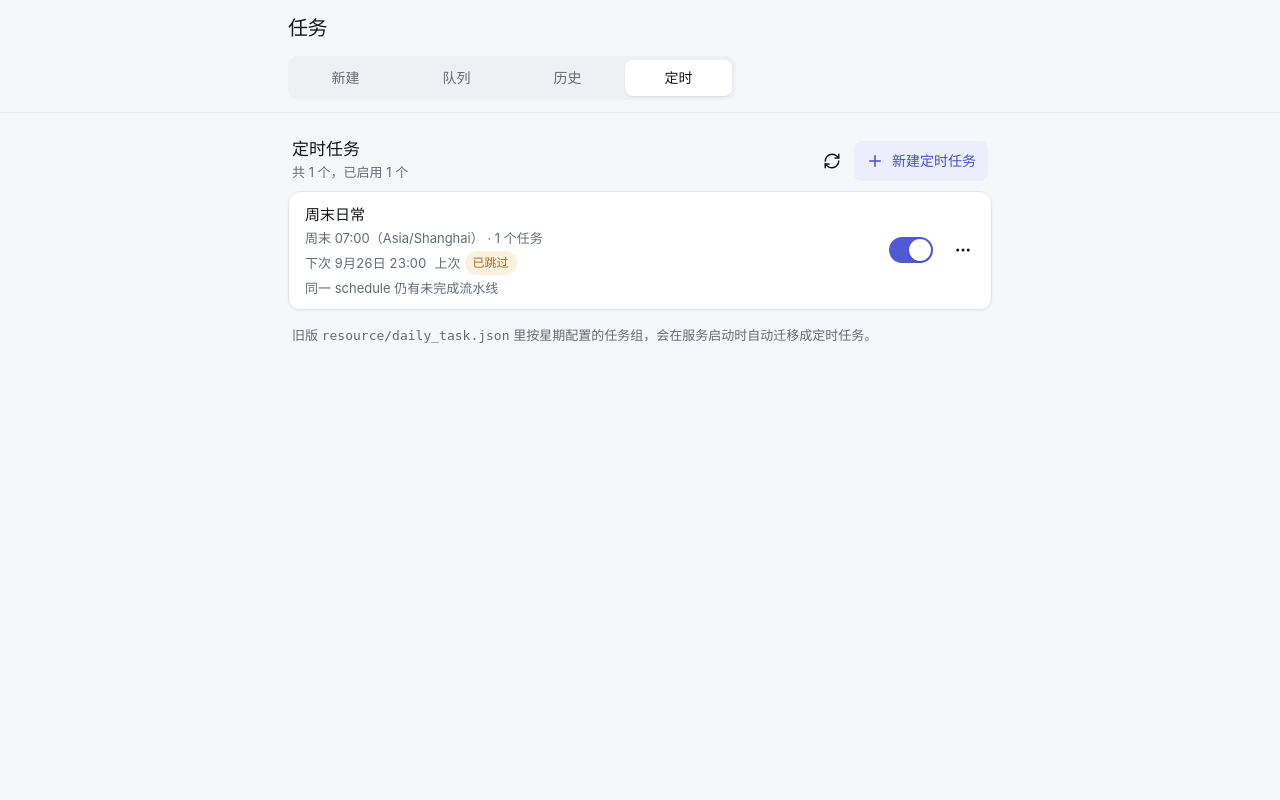
Scenario: schedule list › explains a refused run on its row
The width and height of the screenshot is (1280, 800).
Check: the link "周末日常" is shown, box [305,205,543,296]
What coordinates should you click on to do the following:
click the button named "「周末日常」的更多操作"
I would click on:
 (963, 250)
Its box is [941,228,985,272].
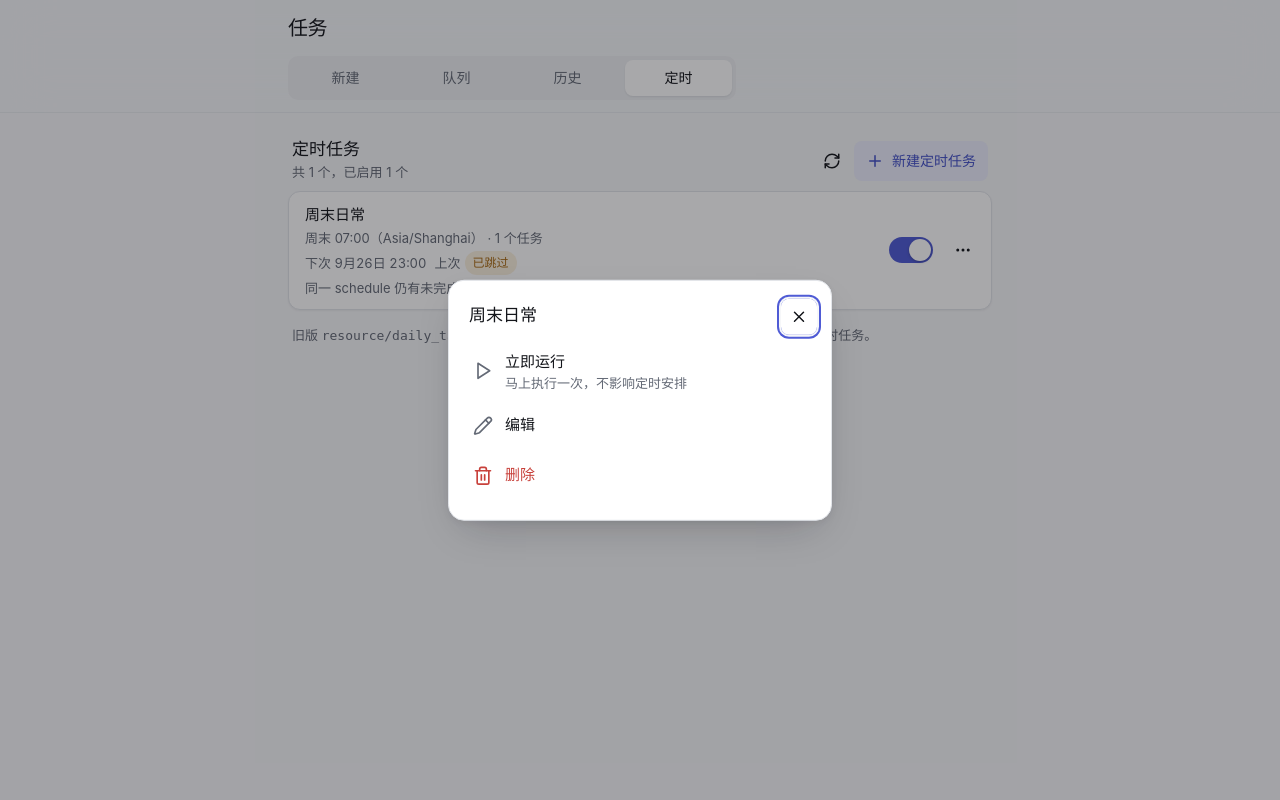
What coordinates should you click on to do the following:
click the button "立即运行 马上执行一次，不影响定时安排"
I would click on:
 (535, 361)
Its box is [461,343,819,399].
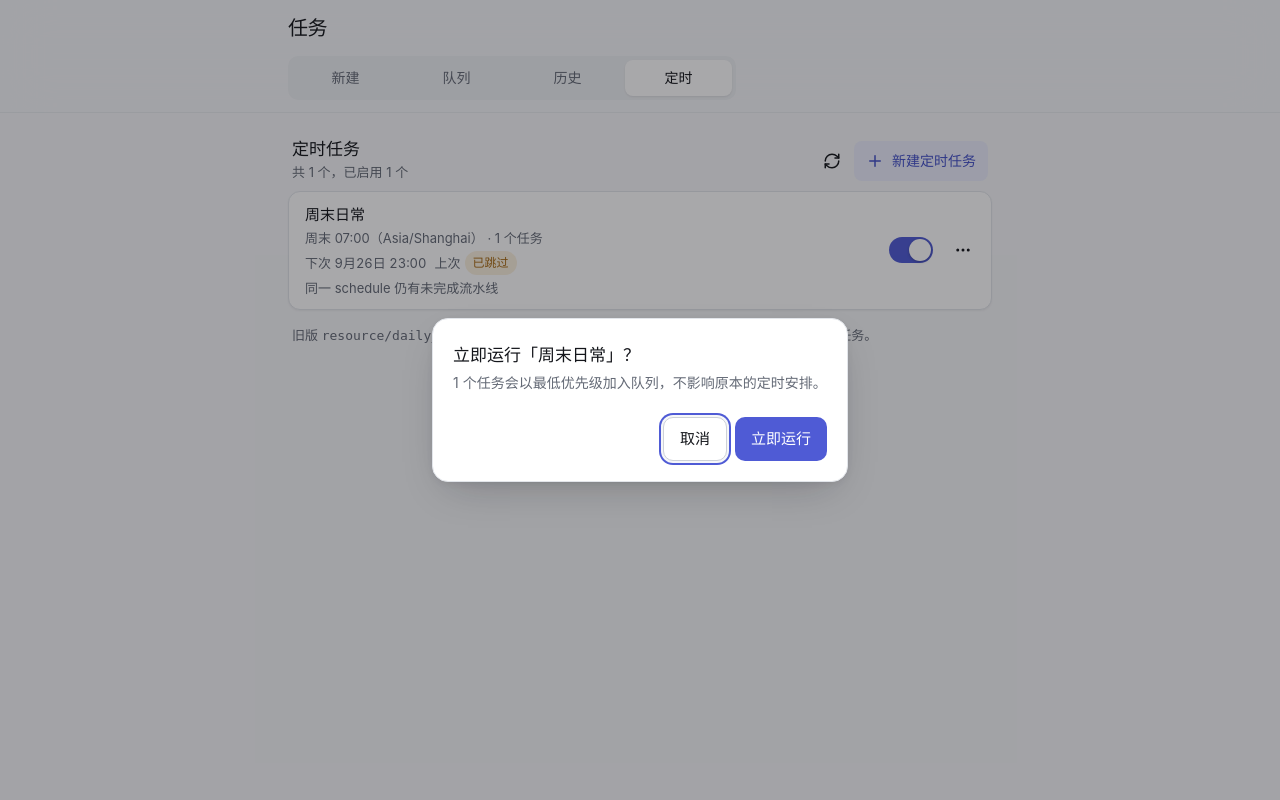
What coordinates should you click on to do the following:
click the button "立即运行"
I would click on:
 (781, 439)
Its box is [735,417,827,461].
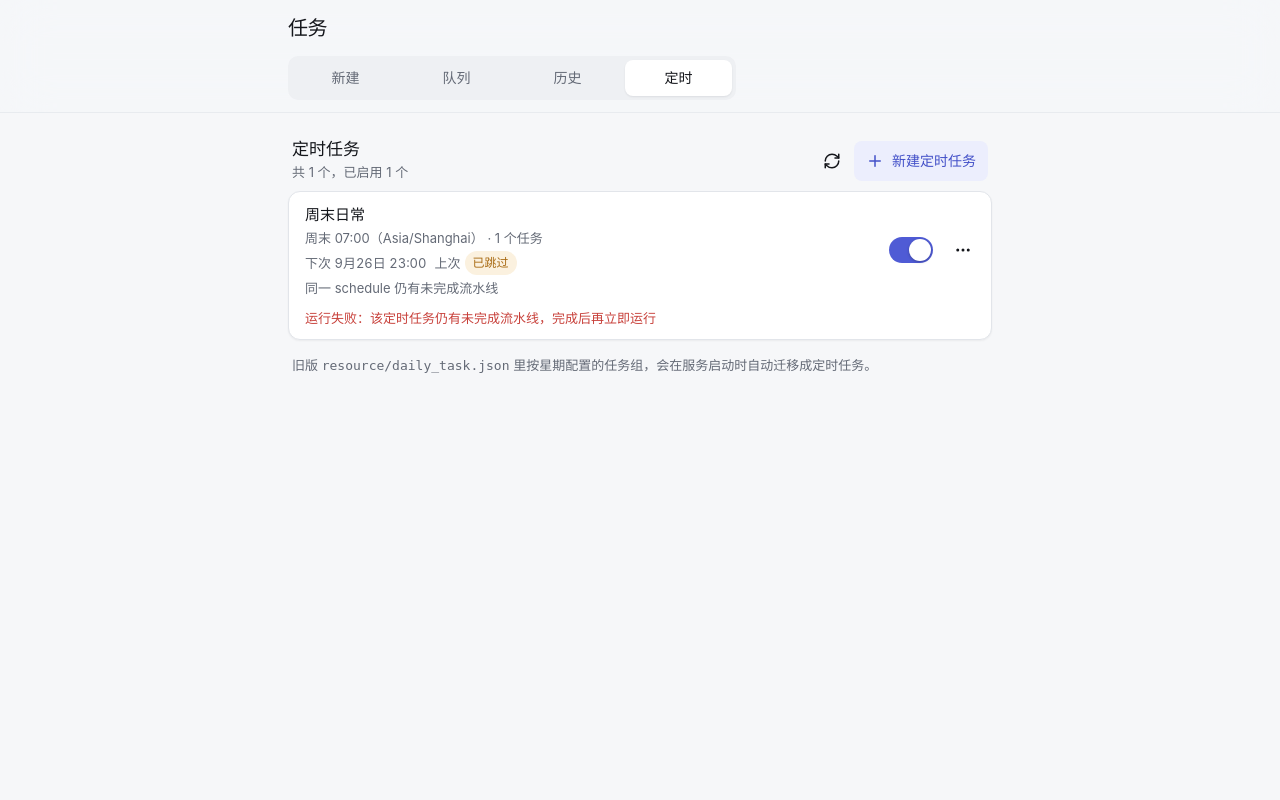
Check: the message reads "运行失败：该定时任务仍有未完成流水线，完成后再立即运行", box [305,310,656,326]
